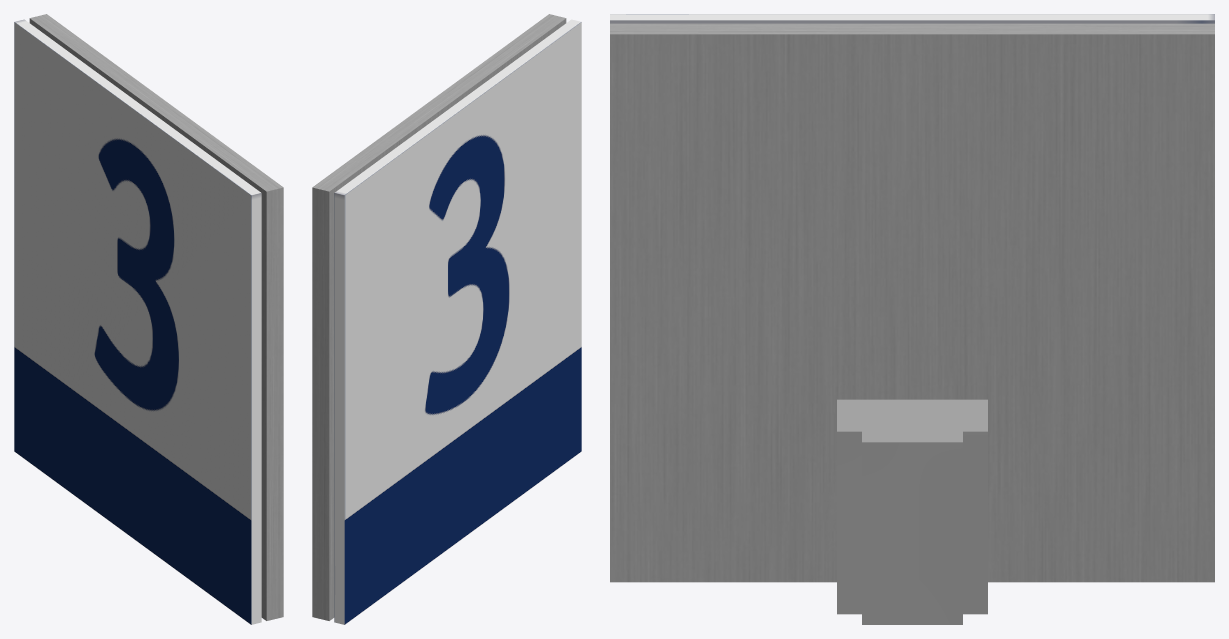
The model's file is scotrail_platform_3.obj.
3 renders of one model, left to right at view 1: azimuth 30°, elevation 25°; view 2: azimuth 150°, elevation 25°; view 3: azimuth 270°, elevation 25°, orthographic. The views are drawn at different scales.
Visible parts, largest first — view 1: cube; view 2: cube; view 3: cube.
Part boxes in pixels (left/top/right/bottom): cube: left=14, top=14, right=283, bottom=624; cube: left=312, top=14, right=581, bottom=624; cube: left=610, top=14, right=1214, bottom=624.
Bounding box in the file's own units: 0.0922 × 0.375 × 0.375.
2 materials, 2 textured.
